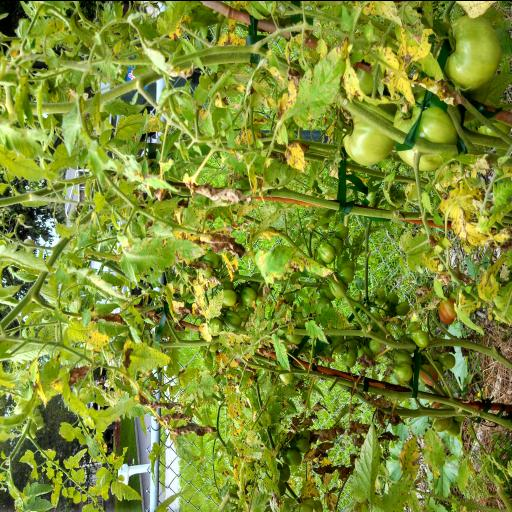Septoria: (276, 36, 348, 129), (128, 232, 212, 276), (252, 241, 298, 289), (156, 0, 204, 41), (120, 338, 176, 372), (477, 252, 512, 302), (360, 0, 404, 30), (314, 302, 352, 330), (271, 328, 291, 372), (115, 112, 146, 140), (94, 316, 132, 338), (284, 141, 308, 173), (66, 319, 96, 343), (218, 329, 254, 348), (152, 194, 180, 218), (304, 319, 330, 344), (204, 287, 224, 319), (301, 283, 319, 317), (236, 198, 262, 220), (94, 300, 120, 314), (203, 108, 215, 136)
